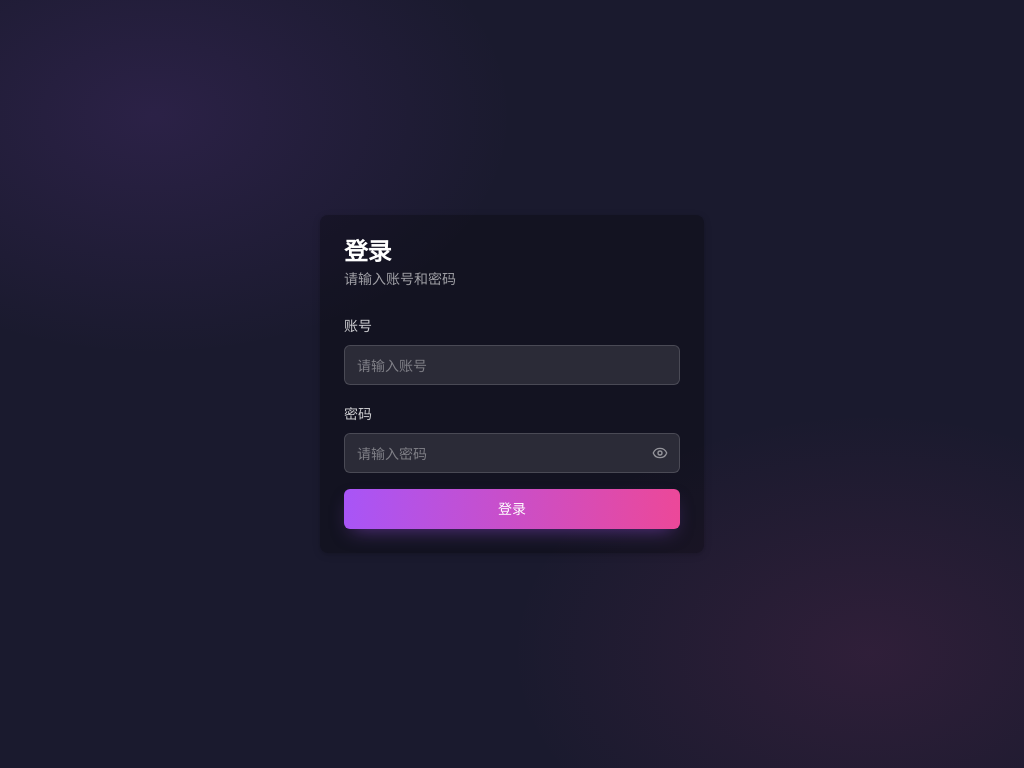
Test case: LoginPage（登录页交互） › 登录失败：清空密码框并显示表单错误提示
Type "admin" into the field labelled "账号". click: (512, 365)
box: [344,345,680,385]
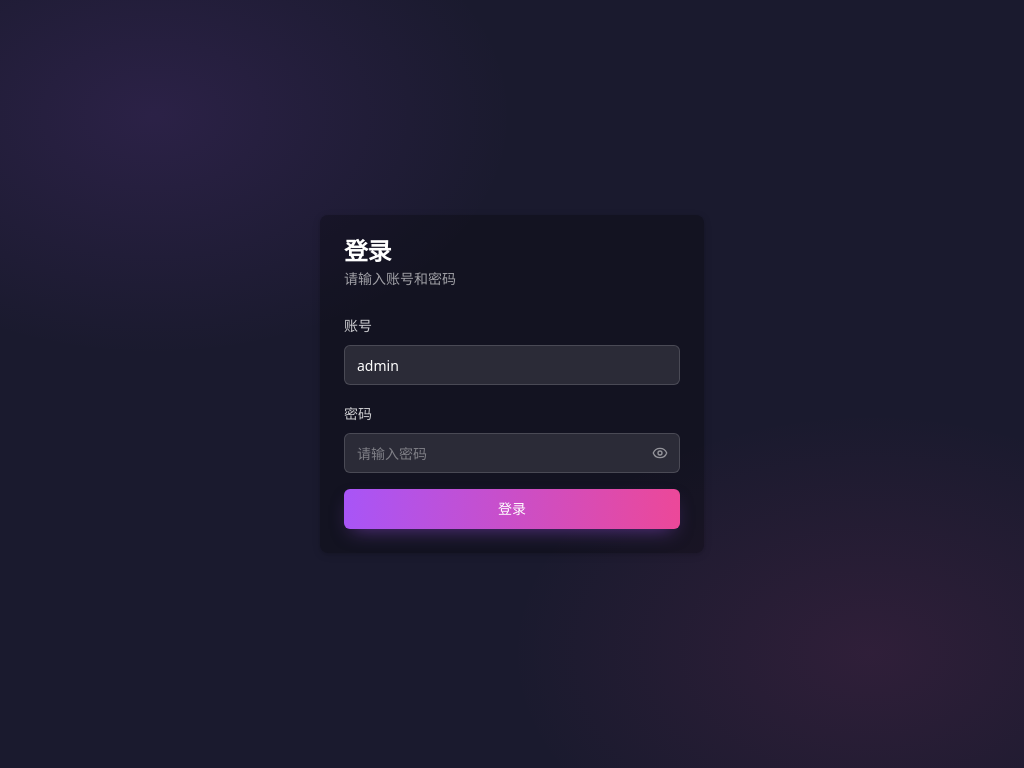
Type "wrong-password" into the password field labelled "密码". click: (512, 453)
box: [344,433,680,473]
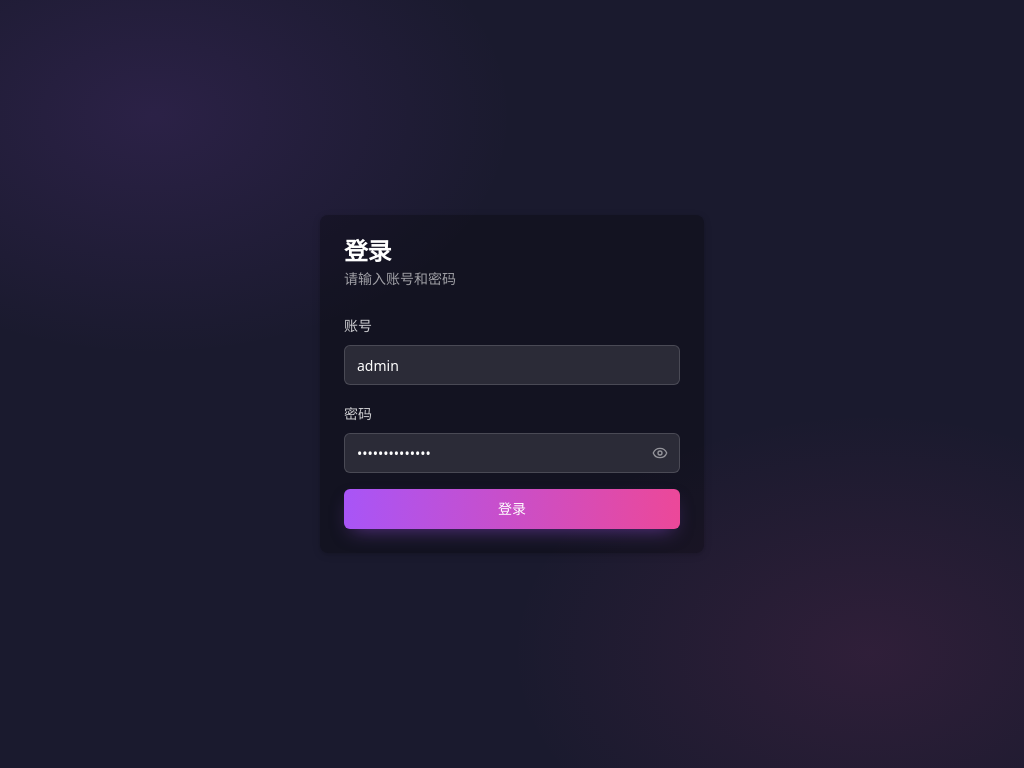
Submit the form "登录", box [344,313,680,529]
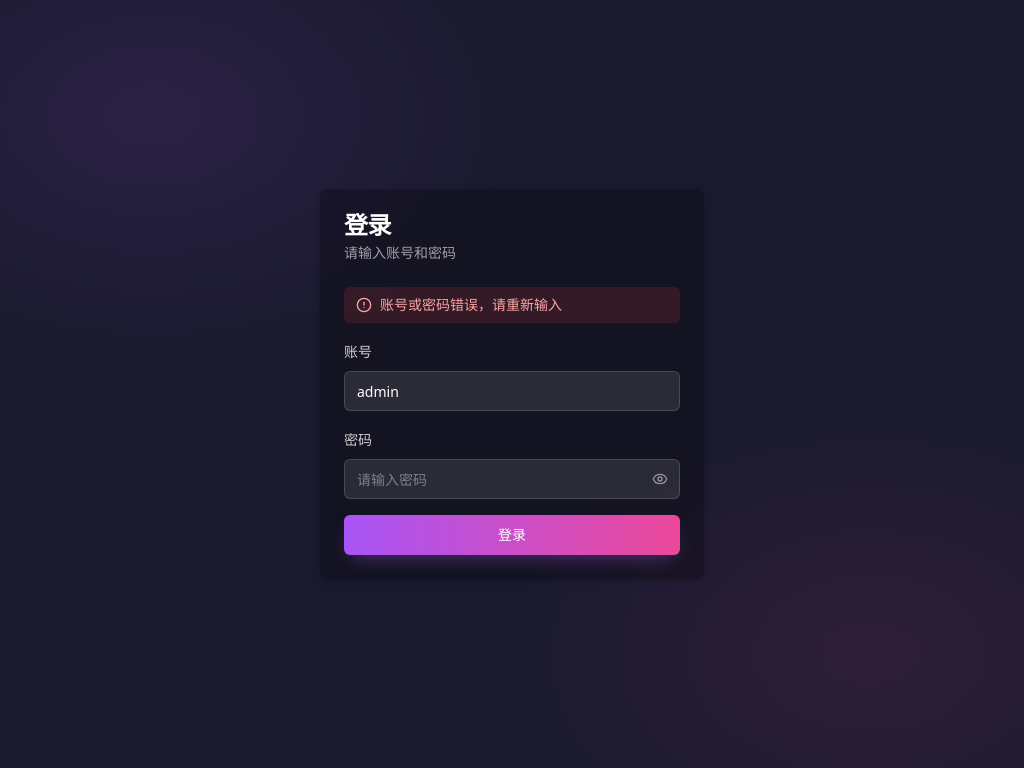
Expected: the message shows "账号或密码错误", [380,295,562,314]
Expected: the password field labelled "密码" is empty, [344,459,680,499]
